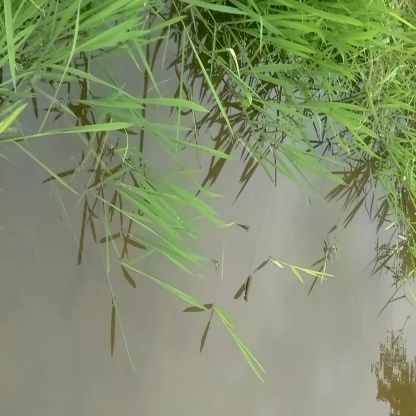grass: (108, 170, 227, 313)
